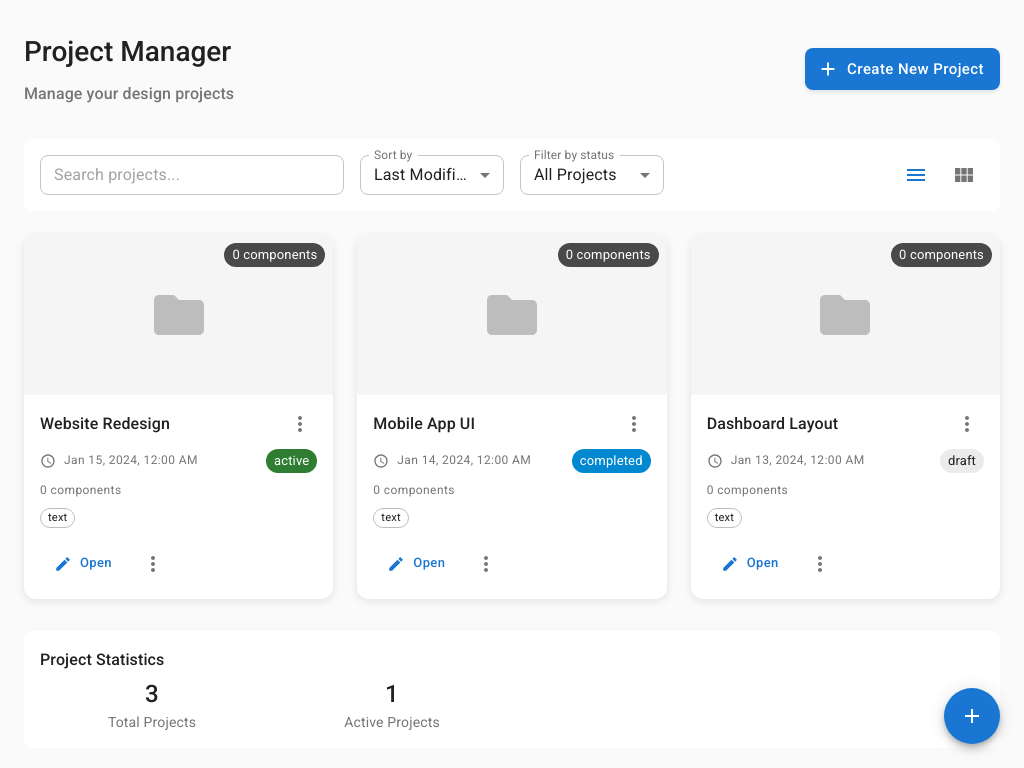
Test: ProjectManager › should filter projects by status
The image size is (1024, 768).
Click the dropdown named "Filter by status".
click(575, 175)  # box [534, 165, 617, 184]
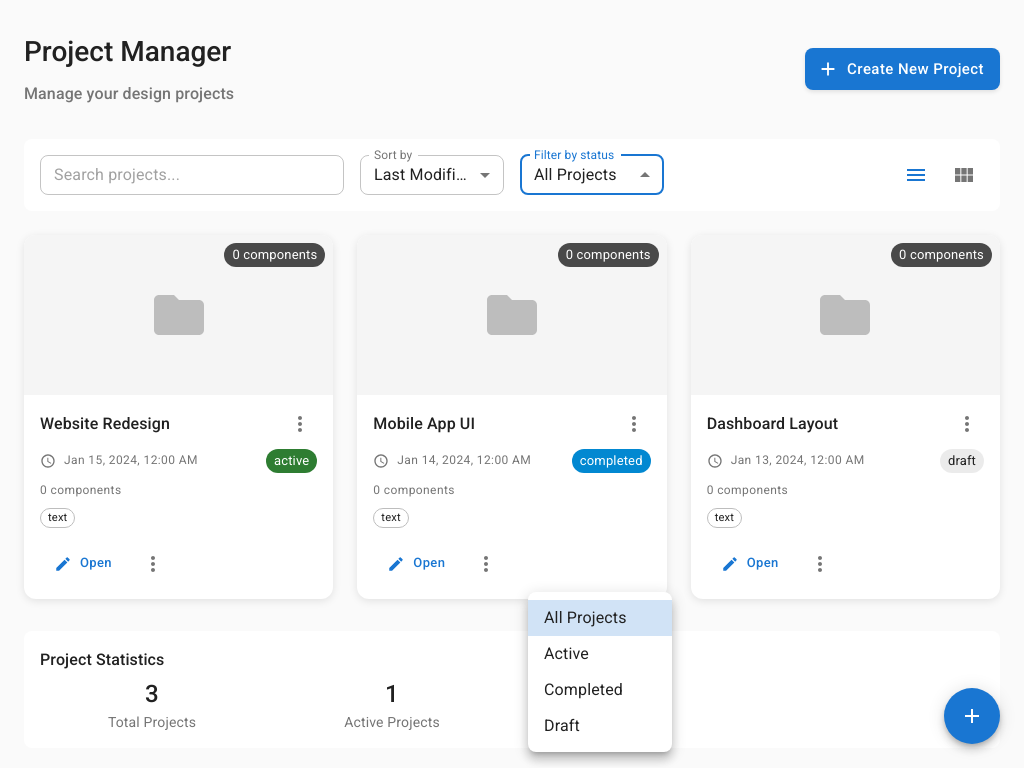
Click the option "Completed".
click(584, 690)  # box [544, 680, 623, 699]
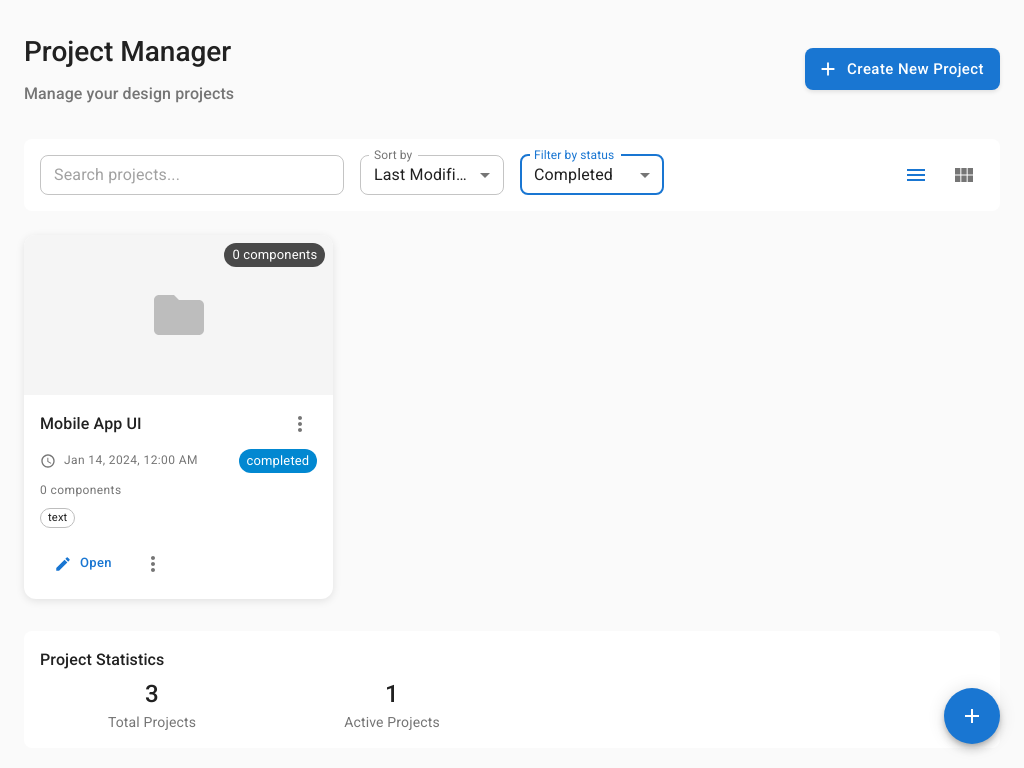
Expected: the heading "Mobile App UI" is shown, [40, 414, 142, 433]
Expected: the heading "Website Redesign" is gone
